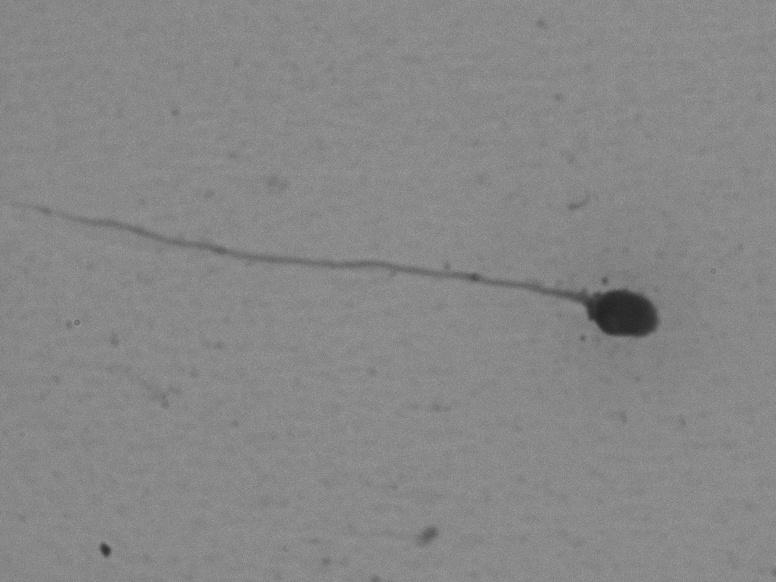Abnormal: (9, 195, 684, 351)
